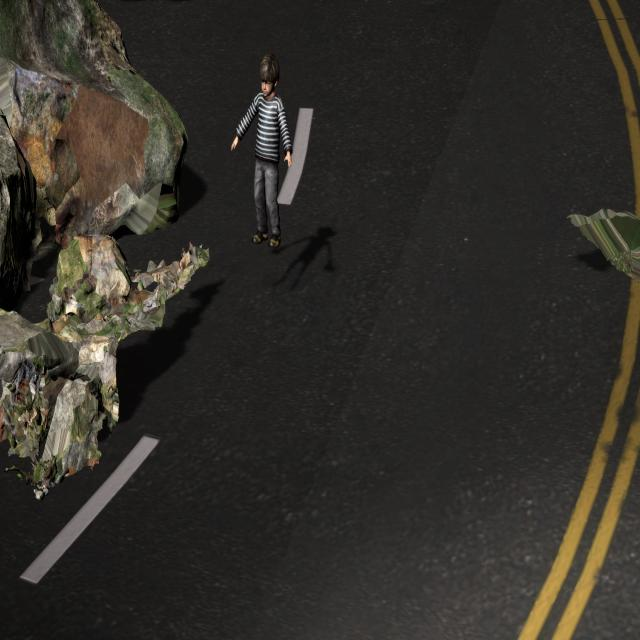Human: (224, 46, 294, 262)
